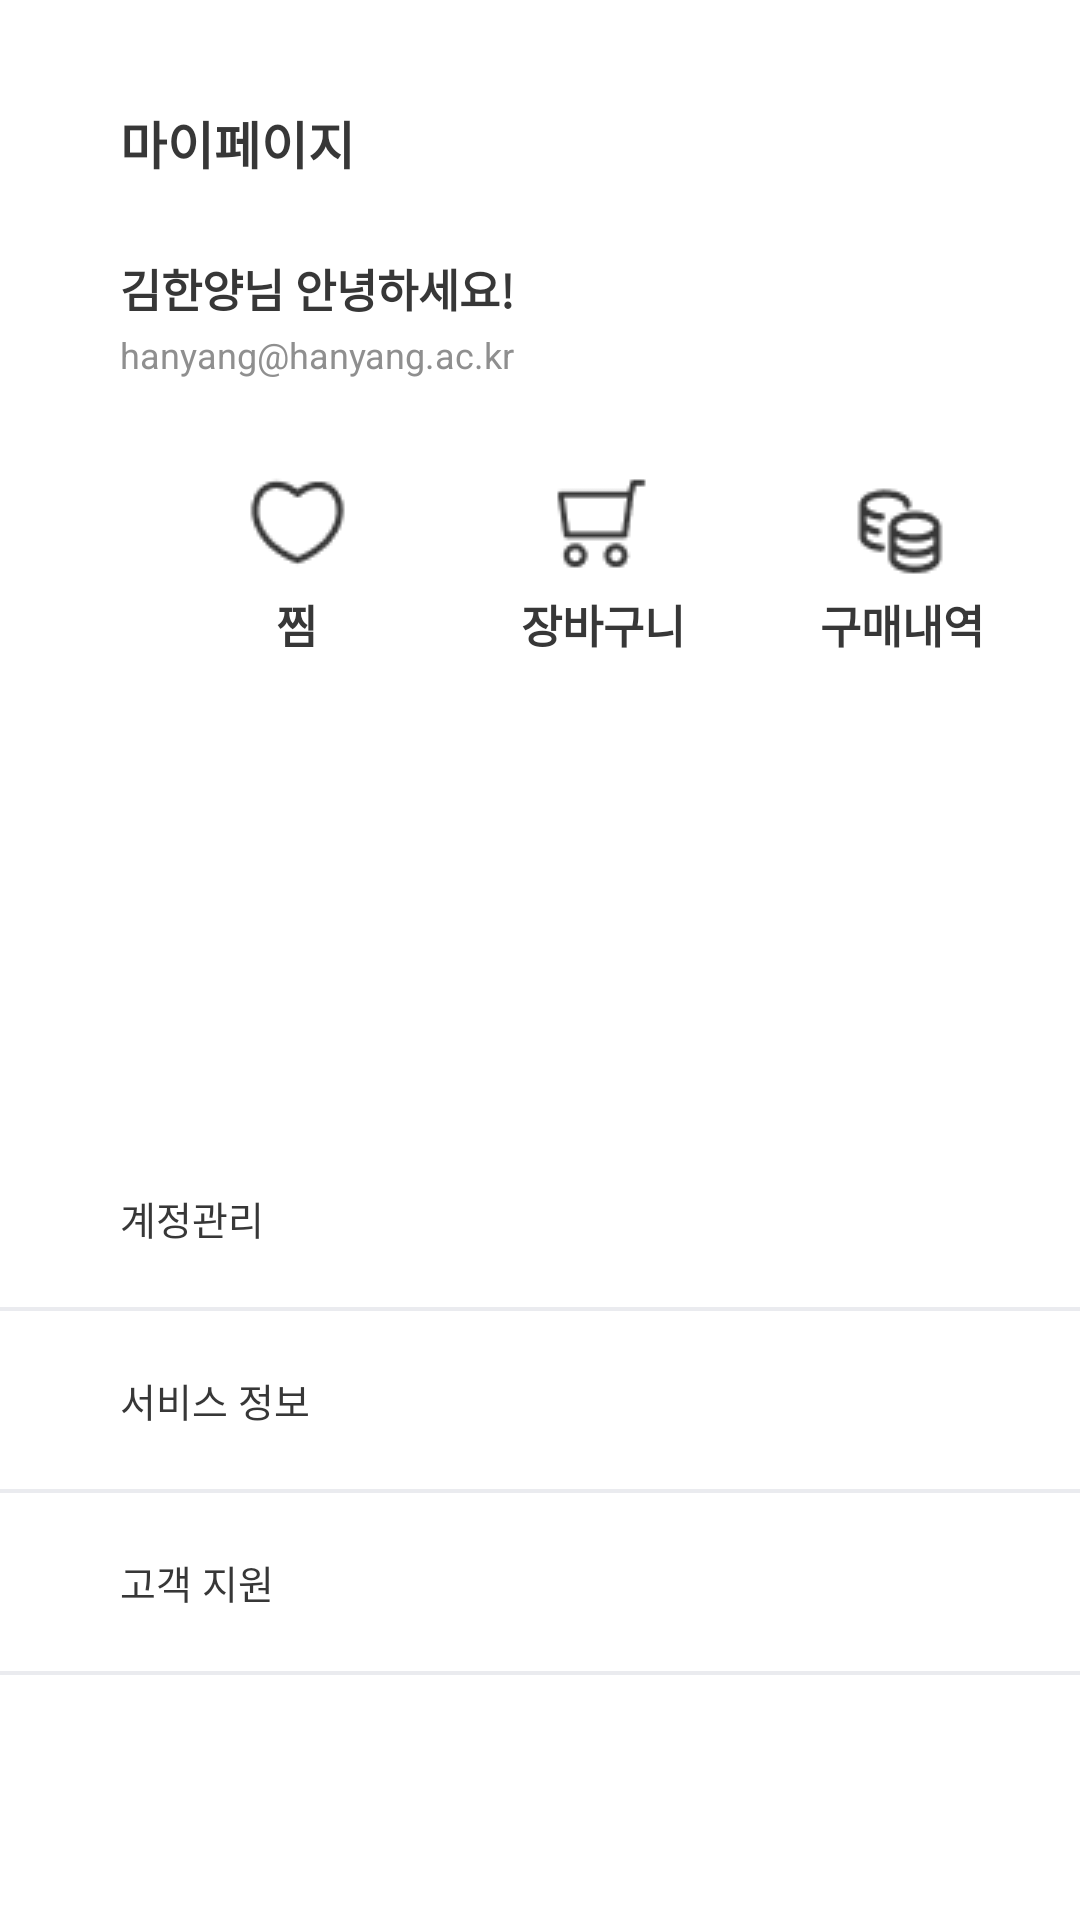

Named icons in this screenshot (1080*1920) and their centers, (x,y):
mypage coin: (900,531)
mypage heart: (297,522)
